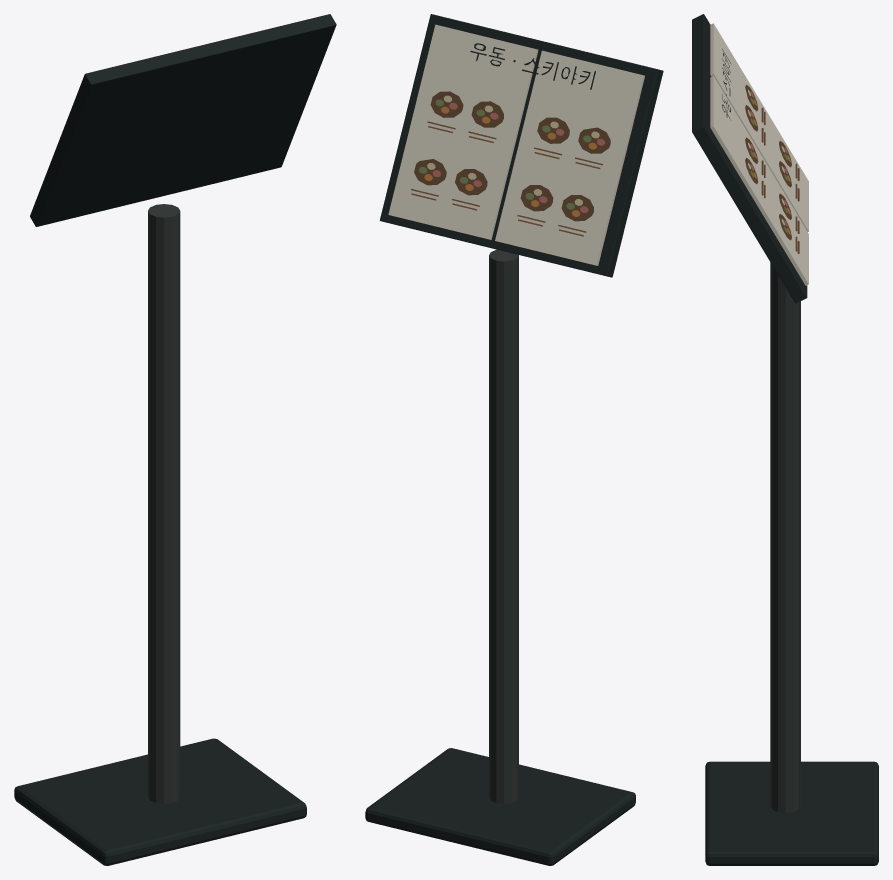
The model's file is menu.glb.
3 renders of one model, left to right at view 1: azimuth 30°, elevation 25°; view 2: azimuth 150°, elevation 25°; view 3: azimuth 270°, elevation 25°, orthographic. The views are drawn at different scales.
Parts seen in each view (by area): view 1: Waraku_menu; view 2: Waraku_menu; view 3: Waraku_menu.
Part boxes in pixels (left/top/right/bottom): Waraku_menu: left=14, top=14, right=336, bottom=865; Waraku_menu: left=365, top=14, right=663, bottom=865; Waraku_menu: left=692, top=14, right=878, bottom=865.
Bounding box in the file's own units: 0.367 × 1.14 × 0.2573.
